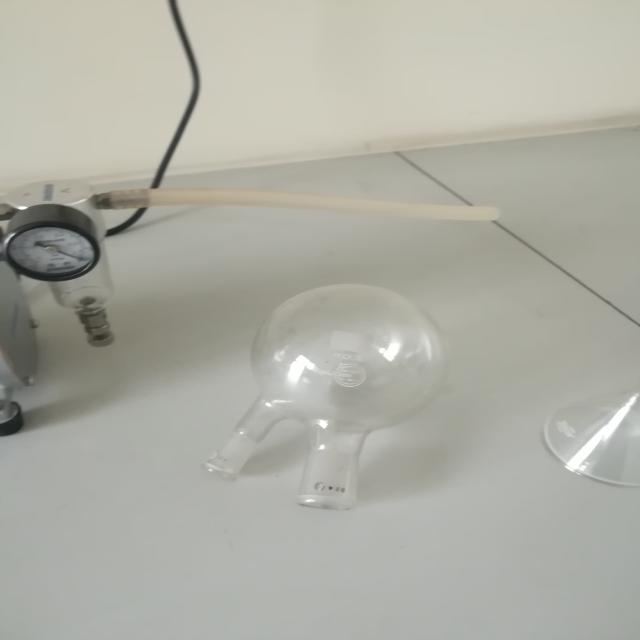Round_Bottom_Flask_Borosilicate_Glass_2_Neck: (170, 244, 464, 536)
